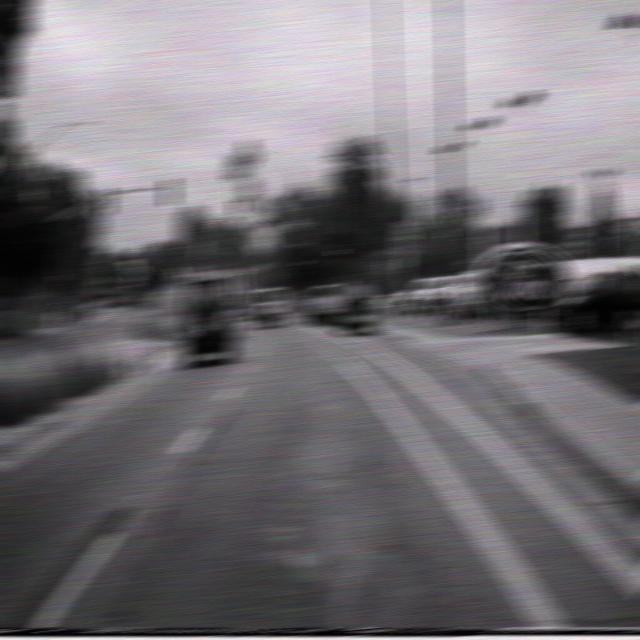speedLimit35: (393, 218, 418, 256)
